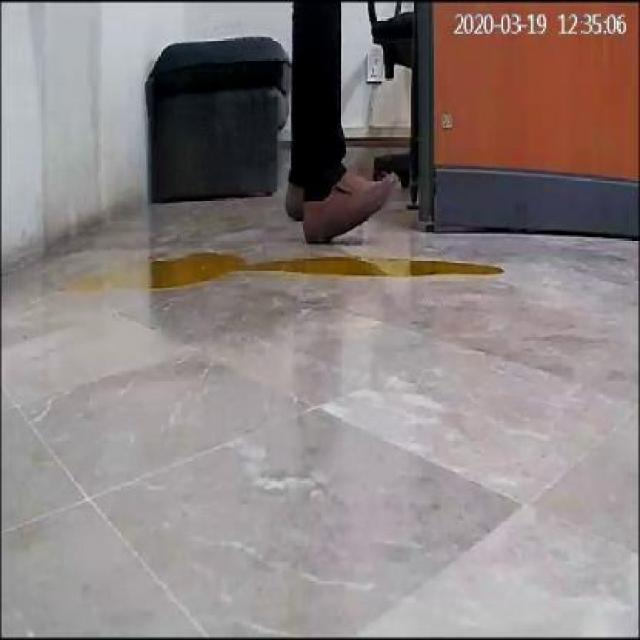spill: (81, 250, 507, 296)
